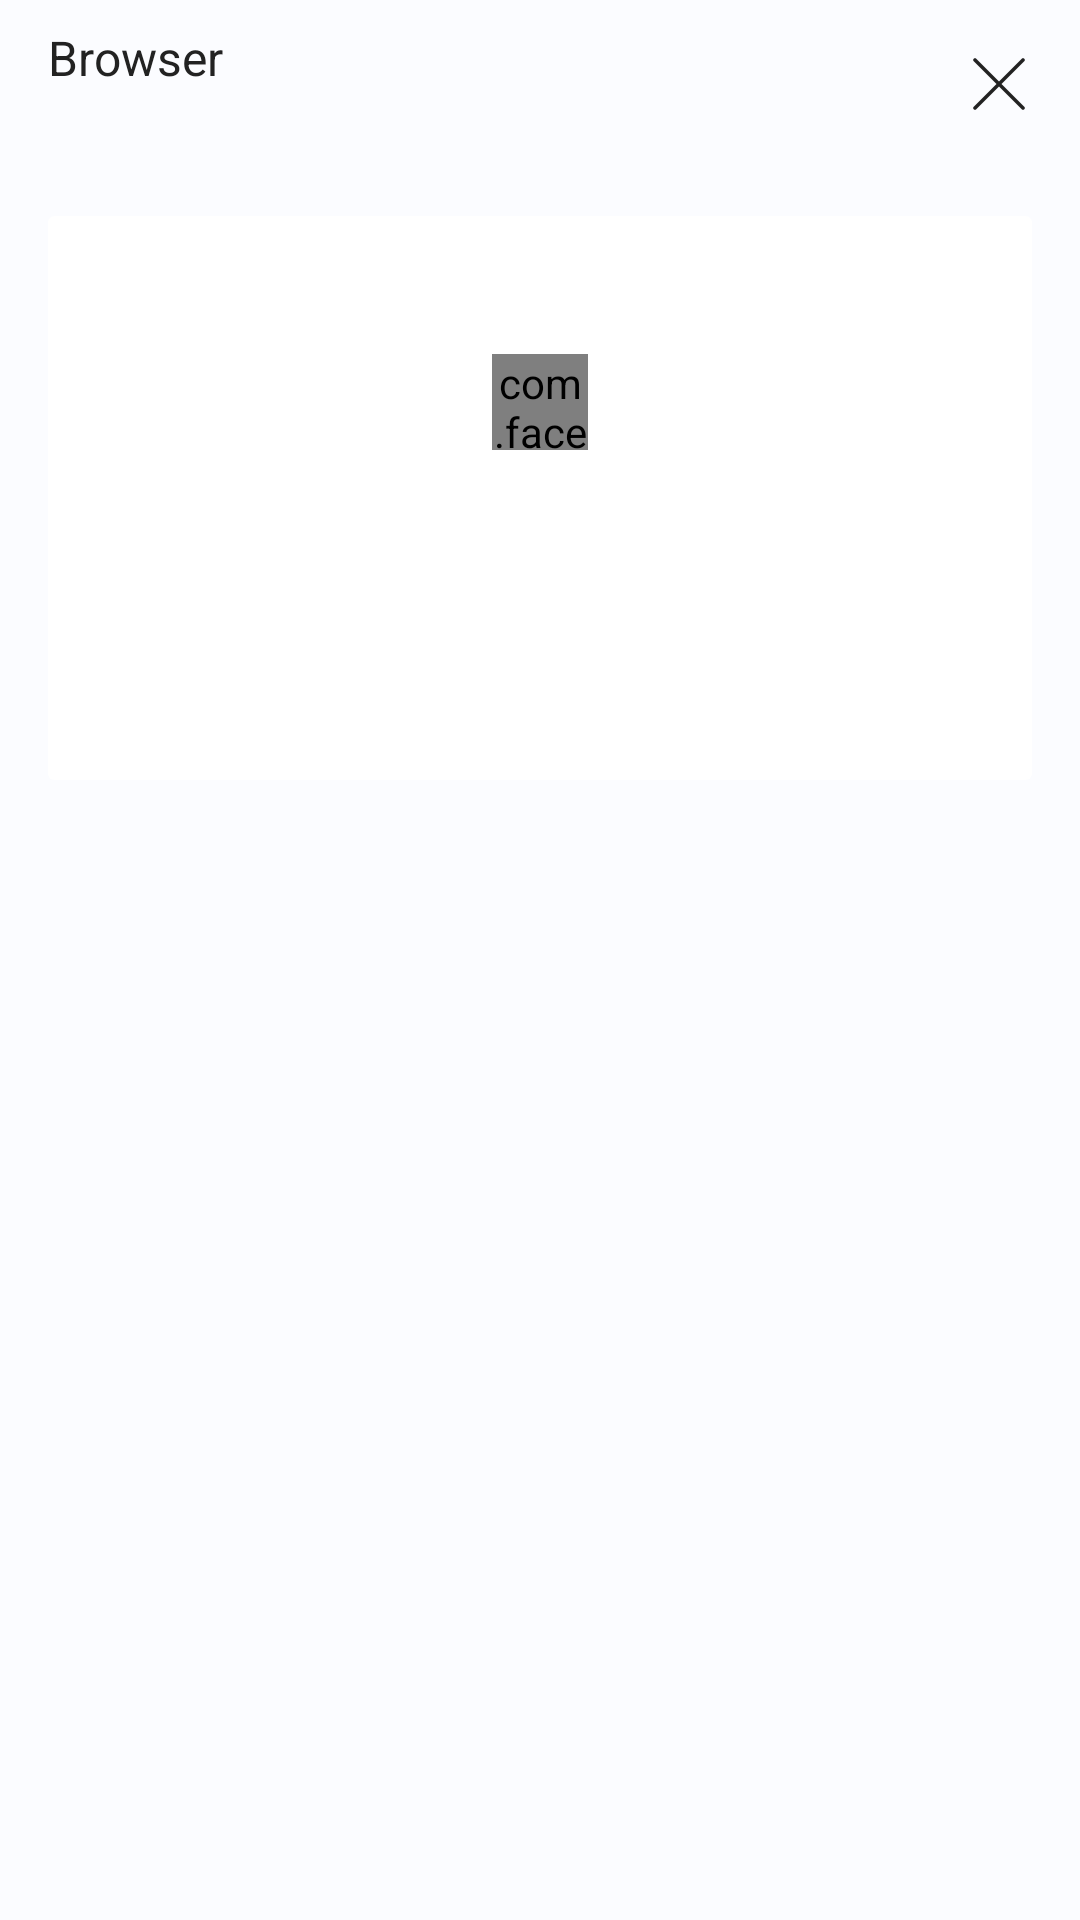

Where icons sit on this 1080px×1920px app screen, as (x1, y1, x2, y2):
close: (973, 58, 1025, 110)
